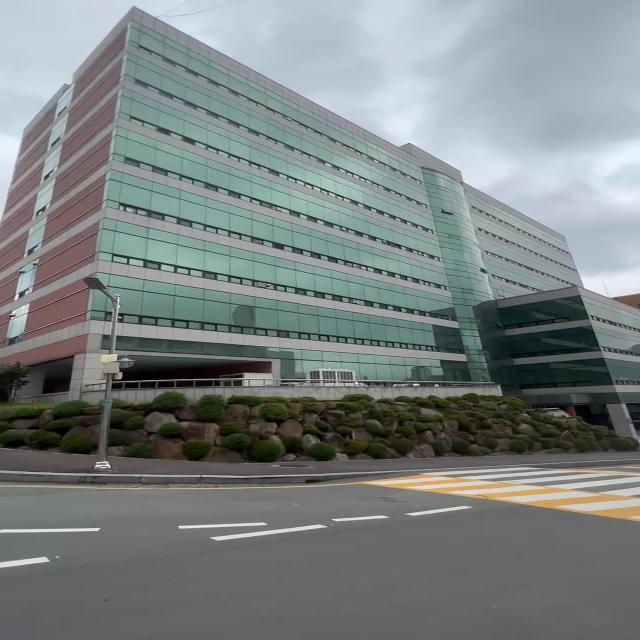building: (5, 25, 498, 389)
